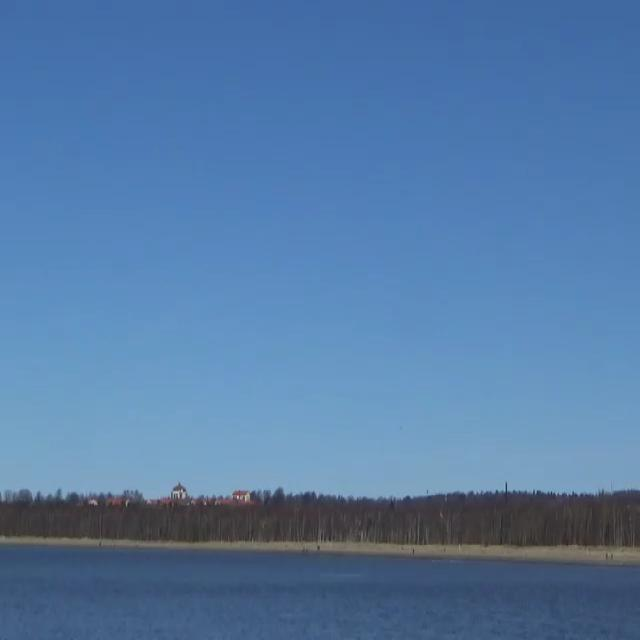Helicopter: (380, 405, 419, 451)
